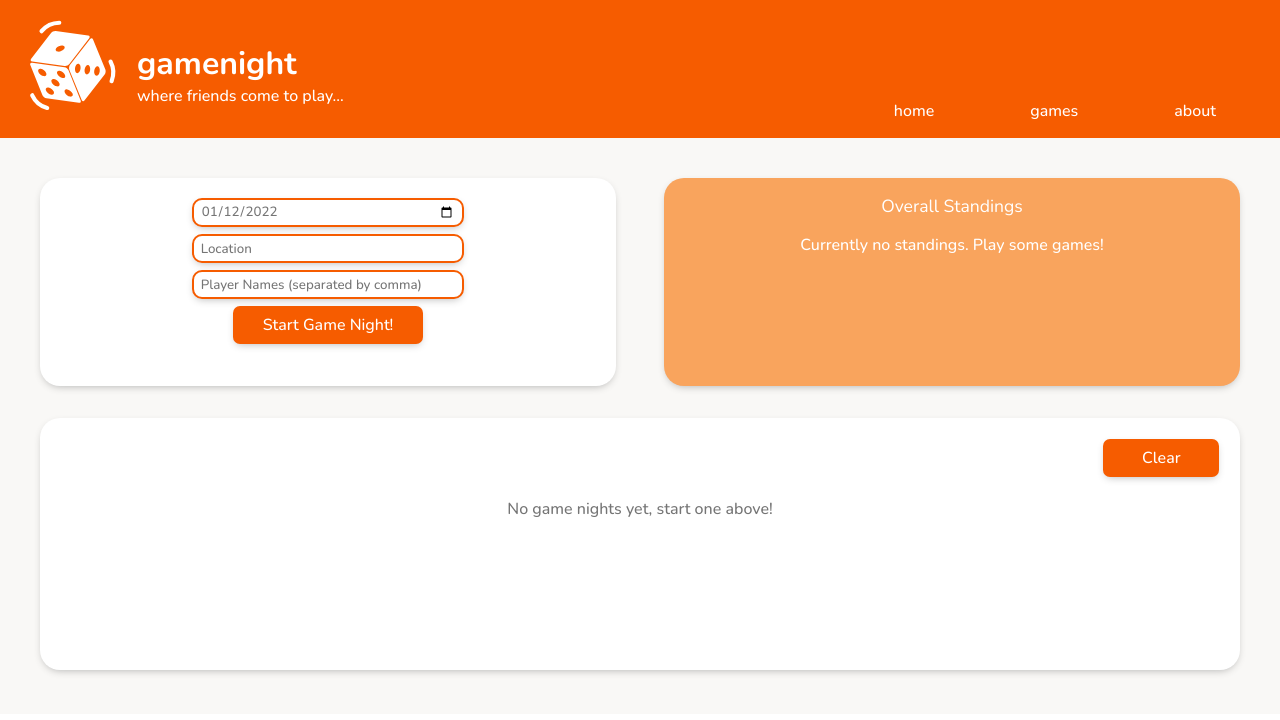
main page › When incomplete data is put into the form, an error message appears
Type "Coffee Shop" into the field named "location". click: (328, 249)
box: [192, 234, 464, 263]
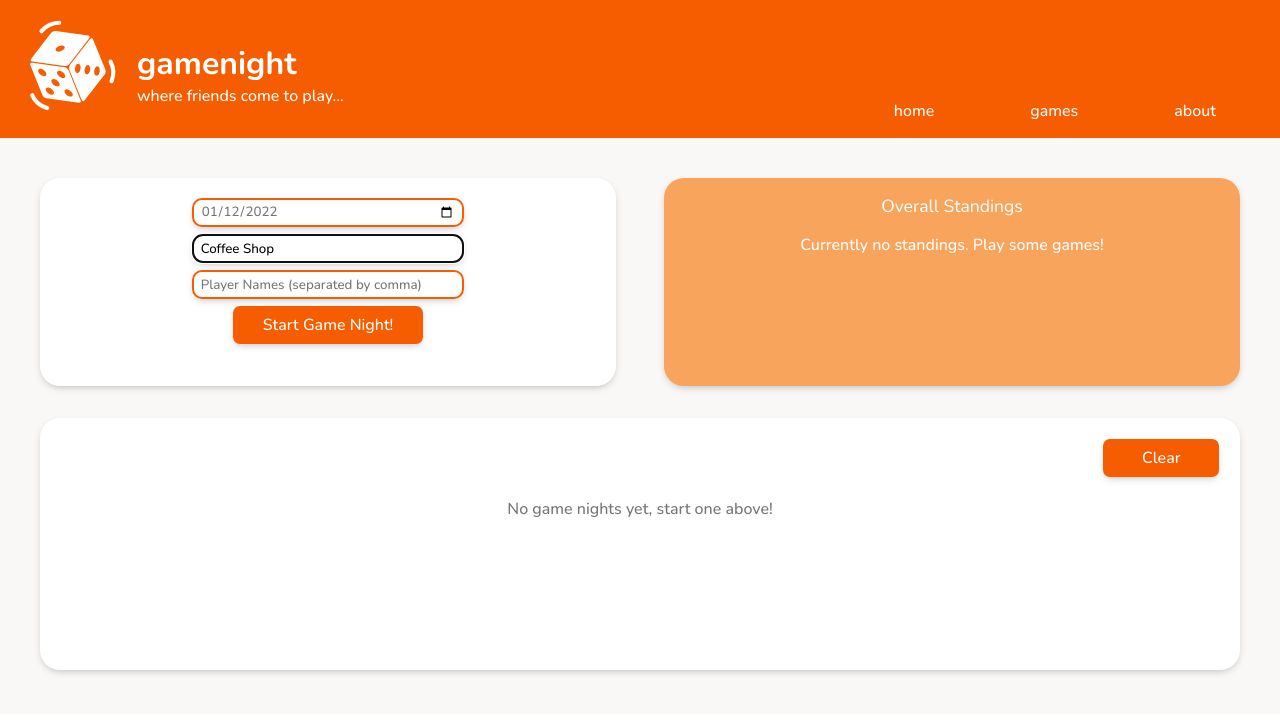
Type "Adam, Kyra, Carl" into the field named "players". click: (328, 285)
box: [192, 270, 464, 299]
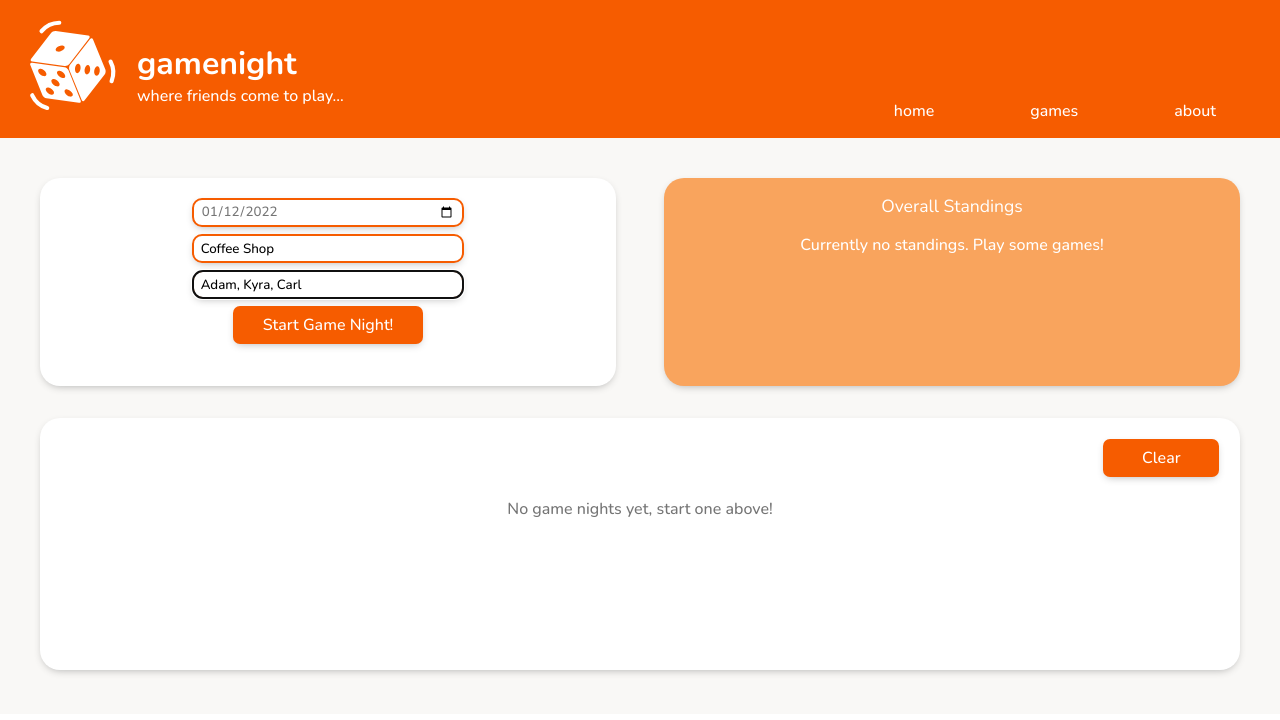
Clear the 2nd field named "players". click: (328, 285)
box: [192, 270, 464, 299]
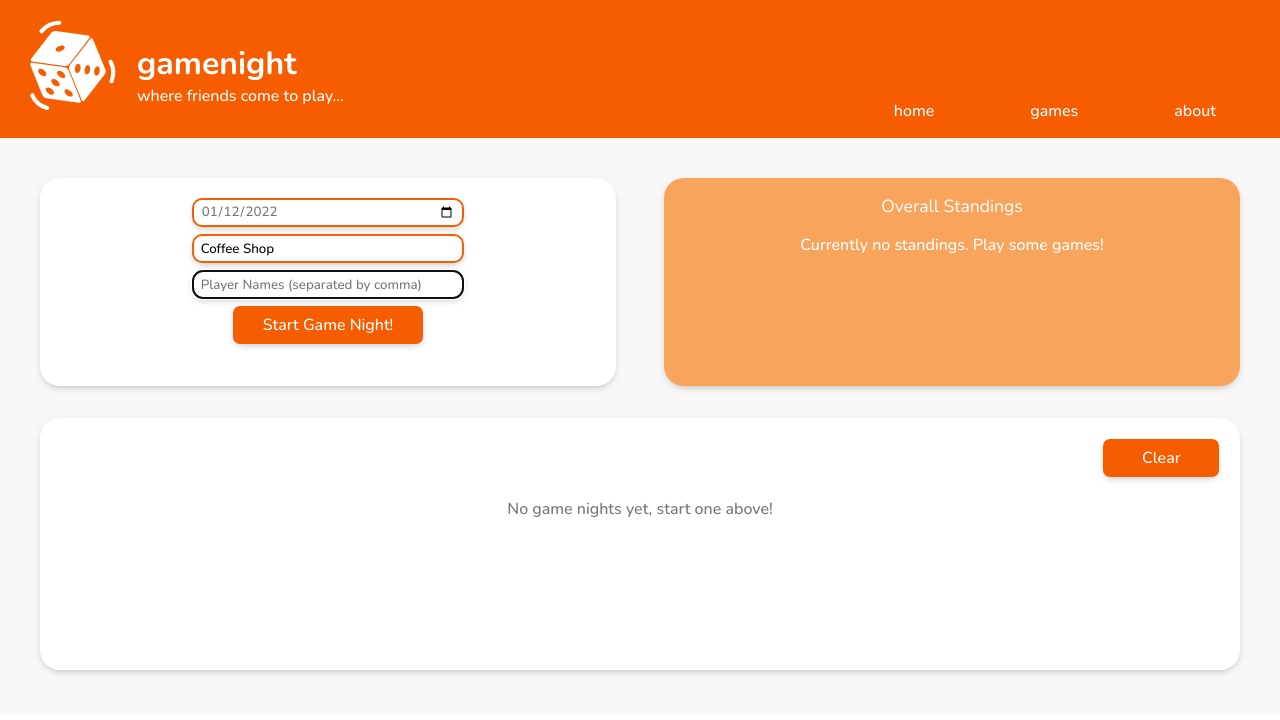
Click the button "Start Game Night!". click: (328, 326)
box: [233, 307, 423, 345]
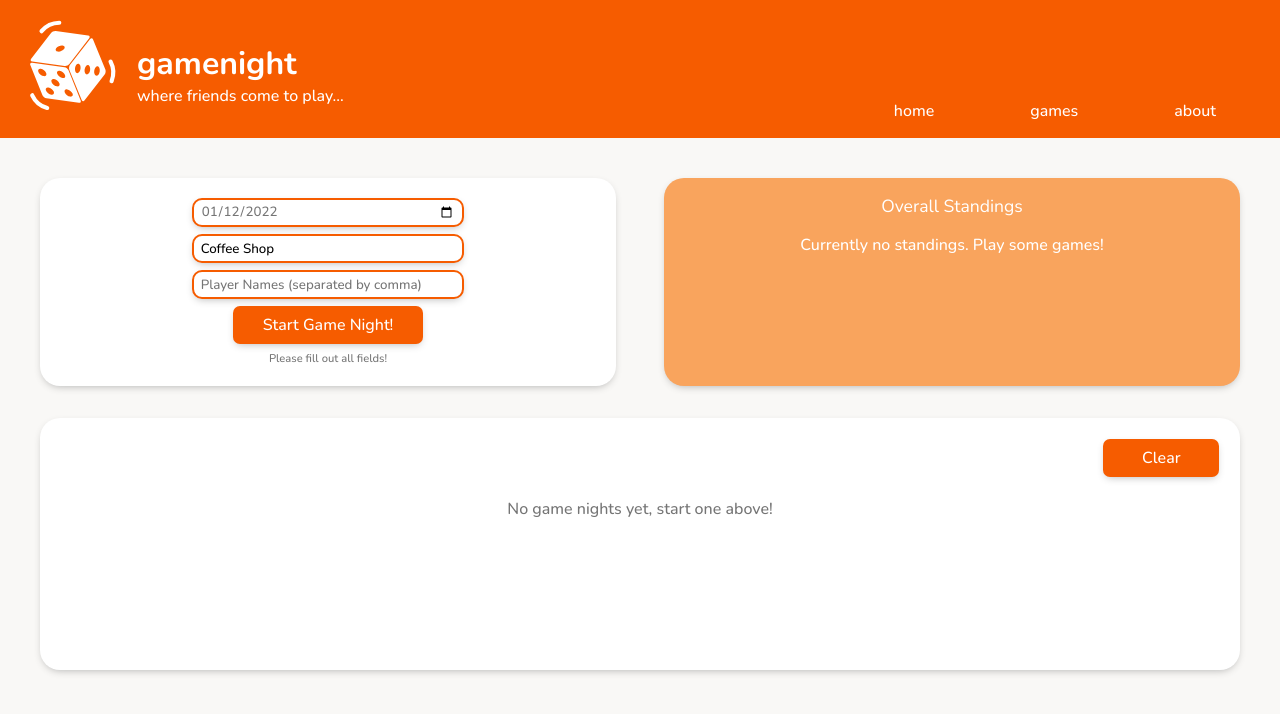
Now the text "Please fill out all fields!" is shown, box [269, 352, 387, 366]
